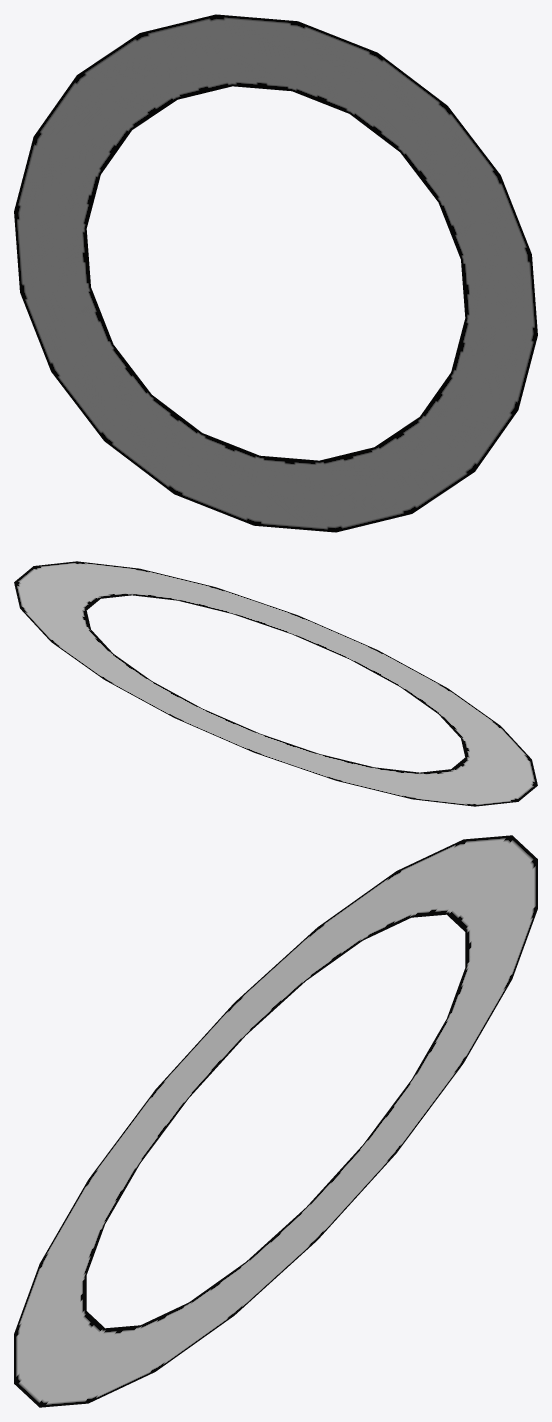
3 views of the same model, one above another, from view 1: azimuth 30°, elevation 25°; view 2: azimuth 150°, elevation 25°; view 3: azimuth 270°, elevation 25° (orthographic). The views are drawn at different scales.
Parts seen in each view (by area): view 1: Joint_0_Object_0; view 2: Joint_0_Object_0; view 3: Joint_0_Object_0.
Boxes of the visible parts, x1,y1,x2,y2 form: Joint_0_Object_0: [14, 14, 537, 532]; Joint_0_Object_0: [14, 561, 537, 806]; Joint_0_Object_0: [14, 835, 537, 1407].
Size of the model in its own units: 258 by 182 by 182.
1 material, 1 textured.
